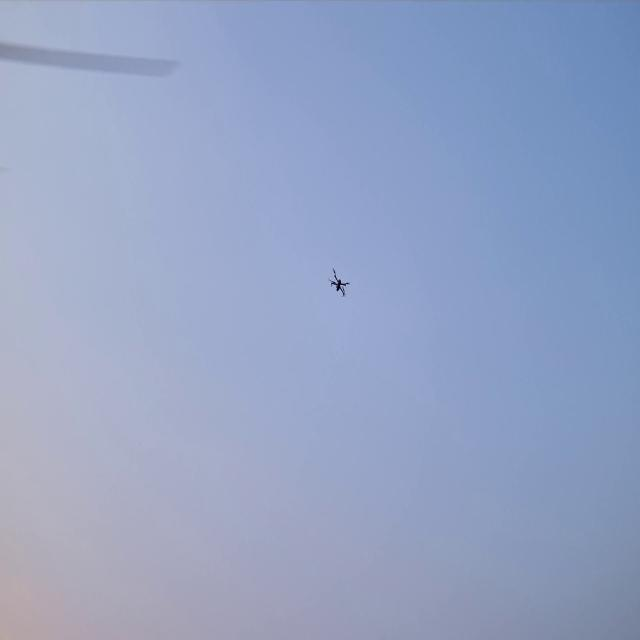UAV: (327, 266, 351, 300)
